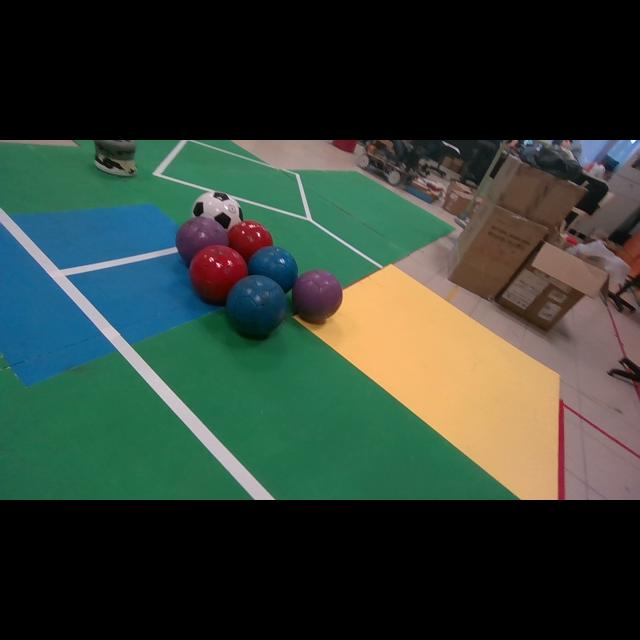B: (226, 275, 288, 339), (249, 246, 298, 292)
P: (175, 216, 229, 266), (292, 270, 342, 324)
R: (189, 245, 248, 304), (228, 220, 274, 262)
